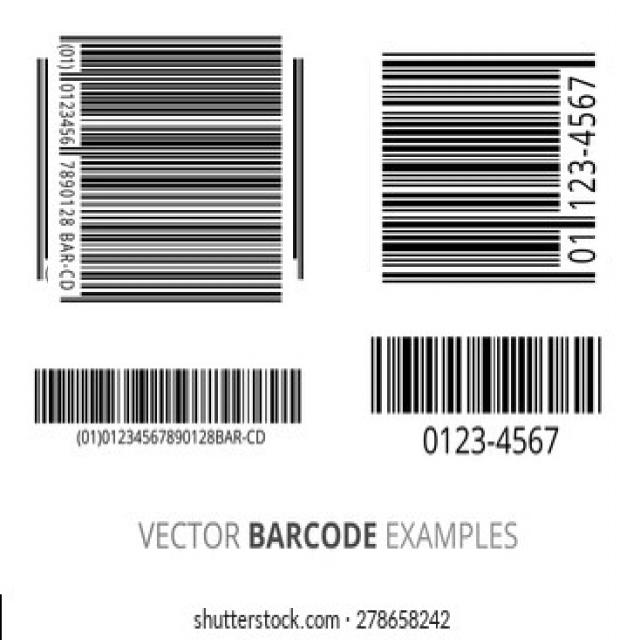Barkod: (38, 37, 302, 300), (366, 44, 610, 286), (364, 322, 606, 461), (28, 352, 306, 455)
